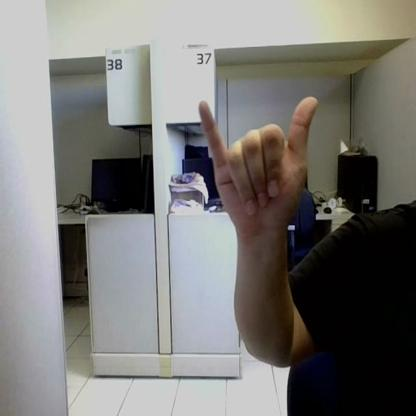Y: (200, 97, 318, 226)
